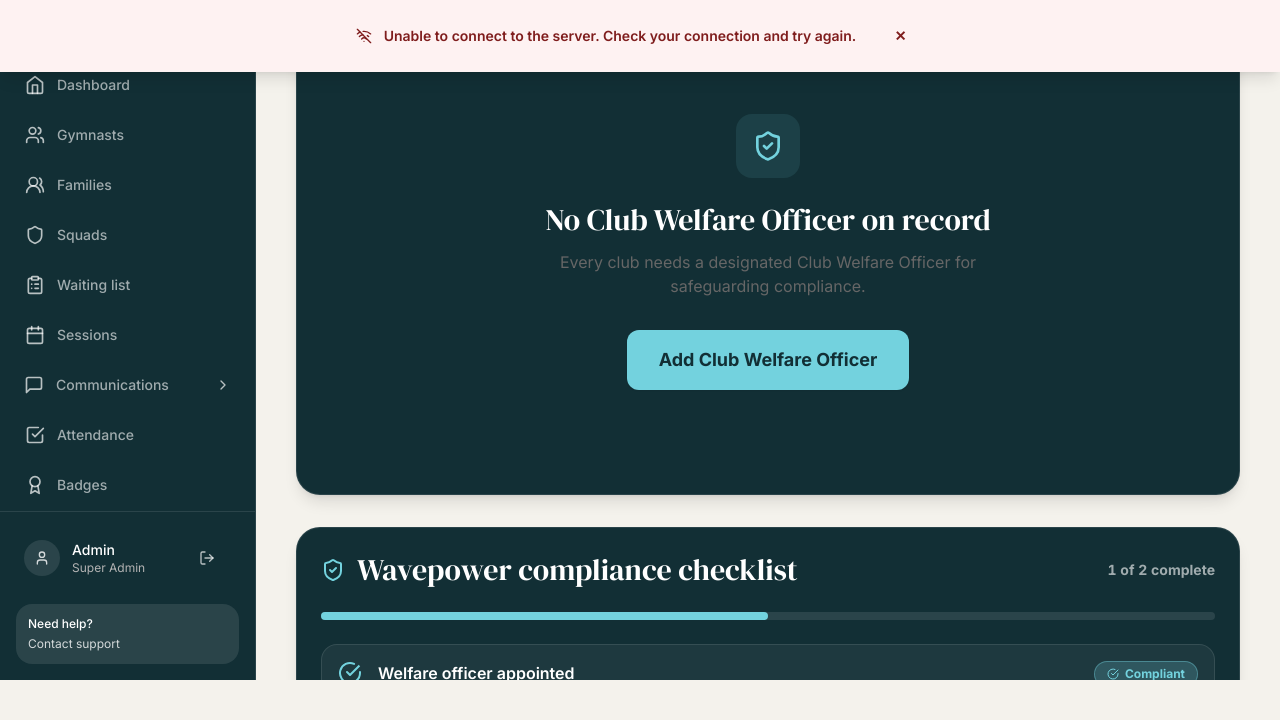
it: SafeguardingPage › offers an add-officer action instead of a dead link when no officer exists
The image size is (1280, 720).
(page scrolled)
Click the button "Add Club Welfare Officer" at point(768, 360), box [627, 330, 909, 390]
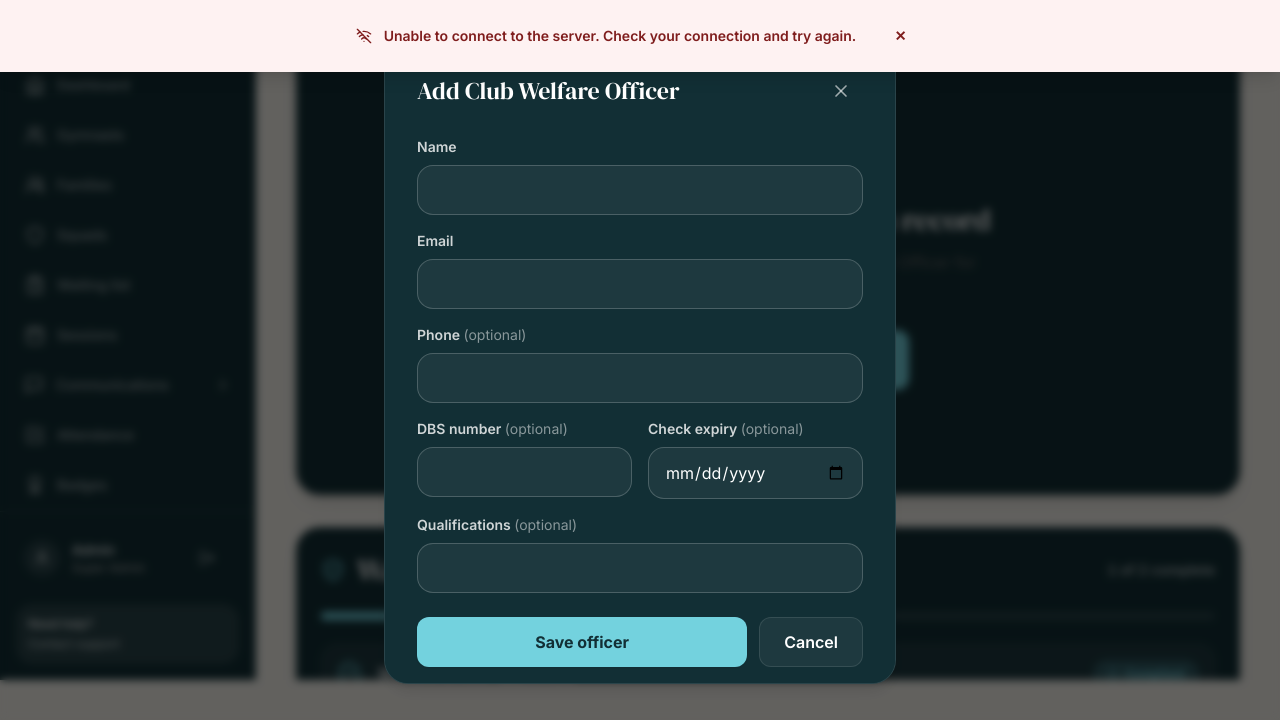
expect the dialog is shown: met
expect the field labelled "Name" is shown: met, box [417, 165, 863, 215]
expect the field labelled "Email" is shown: met, box [417, 259, 863, 309]
